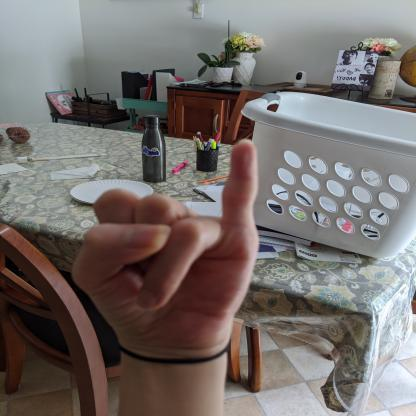I: (66, 136, 262, 362)
